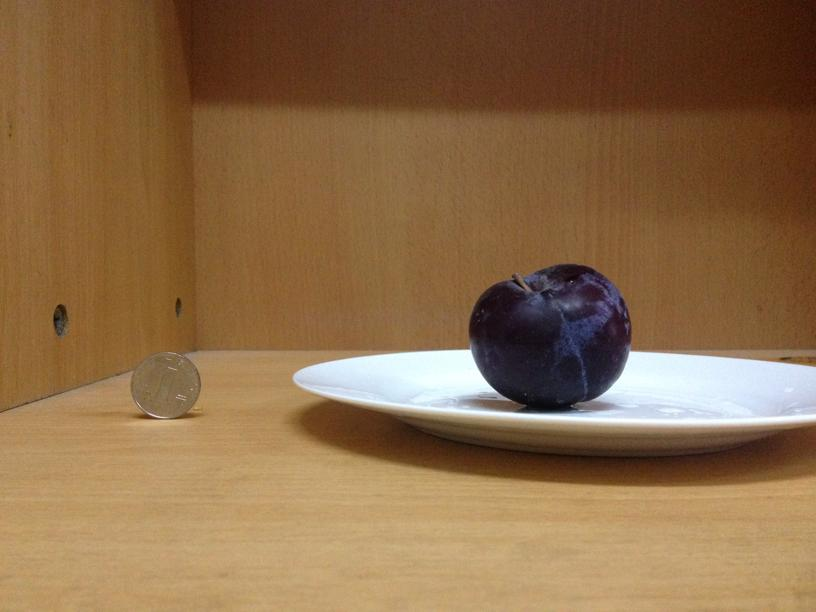coin: (129, 351, 200, 420)
plum: (464, 259, 631, 410)
